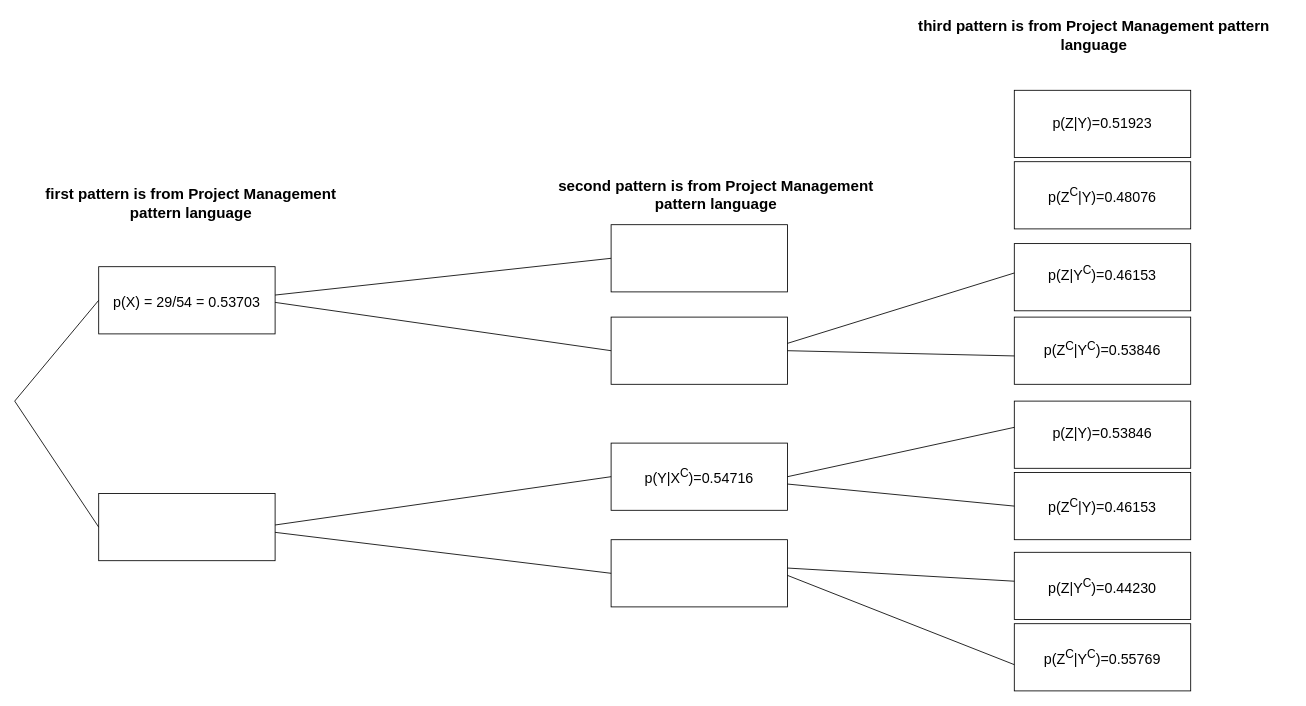
This 1306x706 diagram has some shape labels left out. The shapes that lost their labels are listed below. From the top down, each one's centre as x and y in pixels, then its label:
At pixel 699 258: "p(Y|X)=0.52830".
At pixel 699 350: "p(Y C |X)=0.47169".
At pixel 186 527: "p(X) = 25/54 = 0.46296".
At pixel 699 573: "p(Y C |X C )=0.45283".
